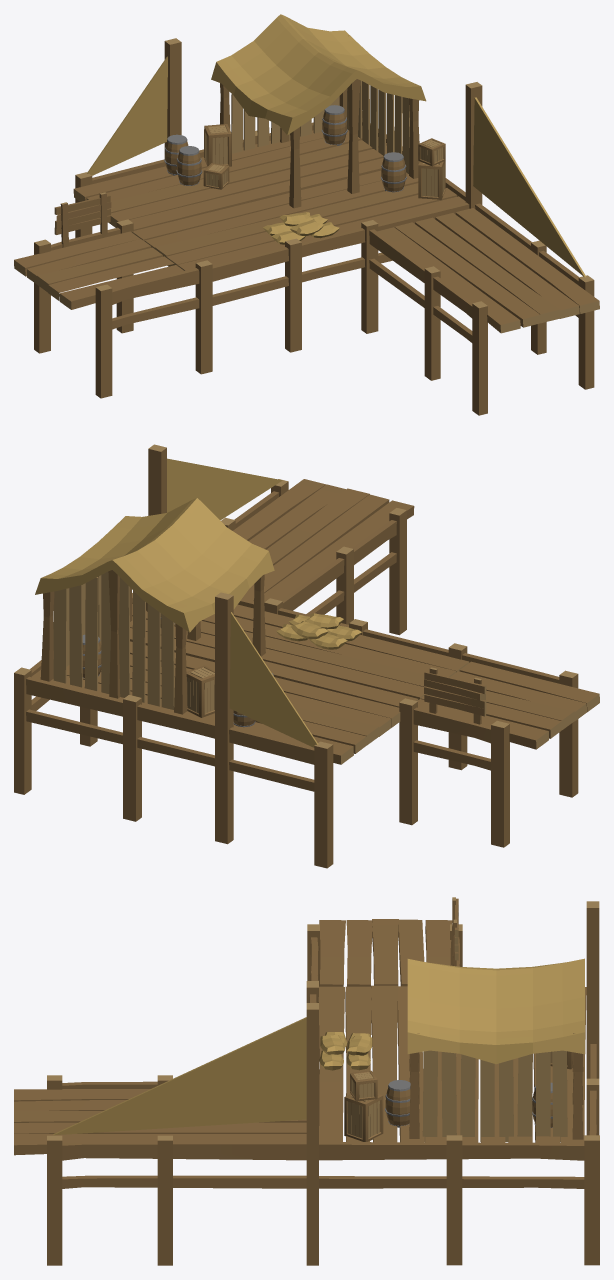
Rendered from Port.glb.
3 views of the same model, one above another, from view 1: azimuth 30°, elevation 25°; view 2: azimuth 150°, elevation 25°; view 3: azimuth 270°, elevation 25° (orthographic). The views are drawn at different scales.
Parts seen in each view (by area): view 1: Port_FirstAge_Level2; view 2: Port_FirstAge_Level2; view 3: Port_FirstAge_Level2.
Boxes of the visible parts, <box> form: Port_FirstAge_Level2: <box>14,14,599,415</box>; Port_FirstAge_Level2: <box>14,444,599,868</box>; Port_FirstAge_Level2: <box>14,897,599,1265</box>.
Size of the model in its own units: 1.84 by 0.9712 by 1.98.
